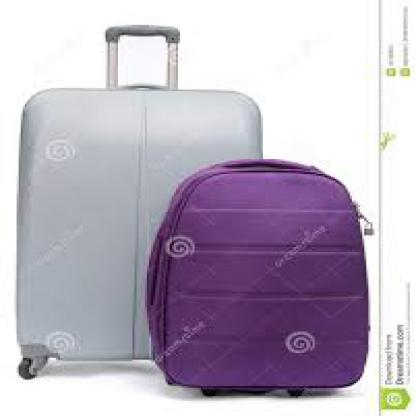maleta: (8, 83, 271, 393), (145, 136, 372, 396)
